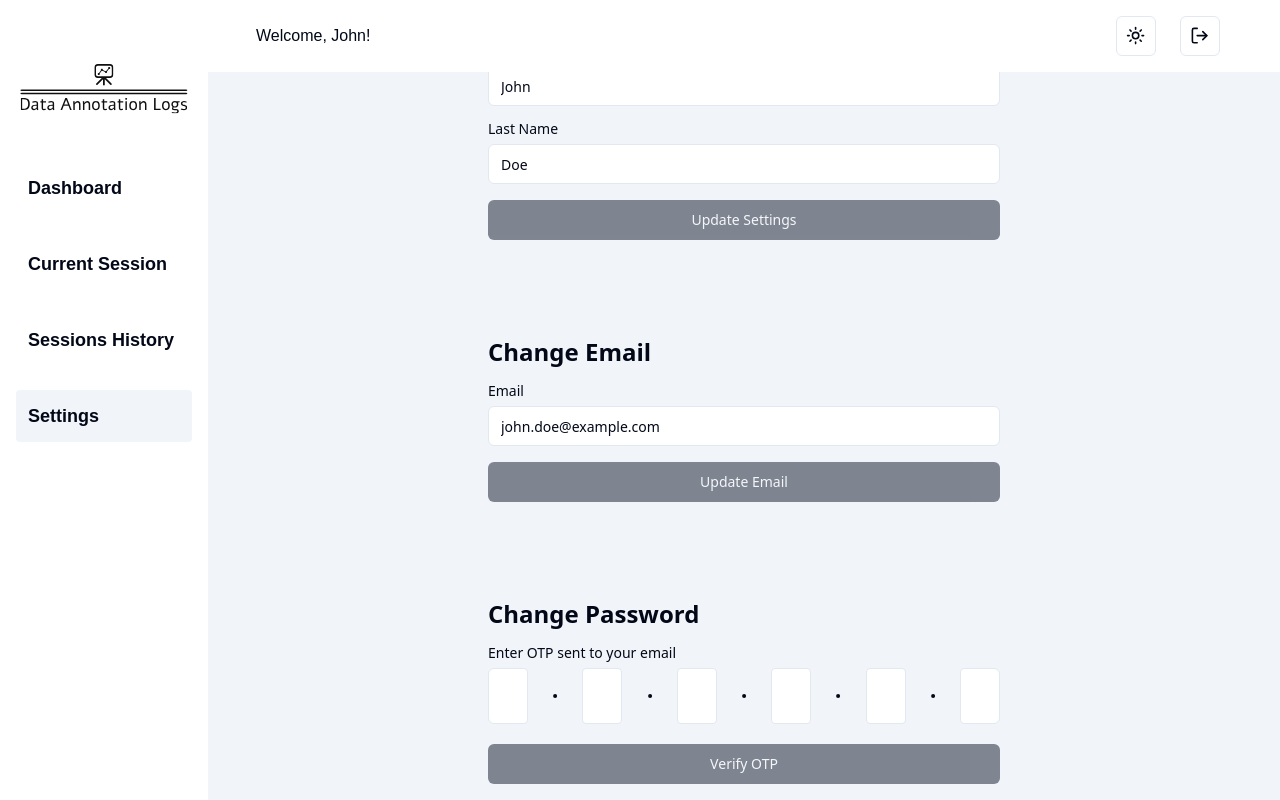
Password Reset Flow › OTP Verification › successfully verifies OTP
(page scrolled)
Type "123456" into the field with test id "password-reset-otp-input".
click(744, 696); type("123456")  # box left=488, top=668, right=1000, bottom=724
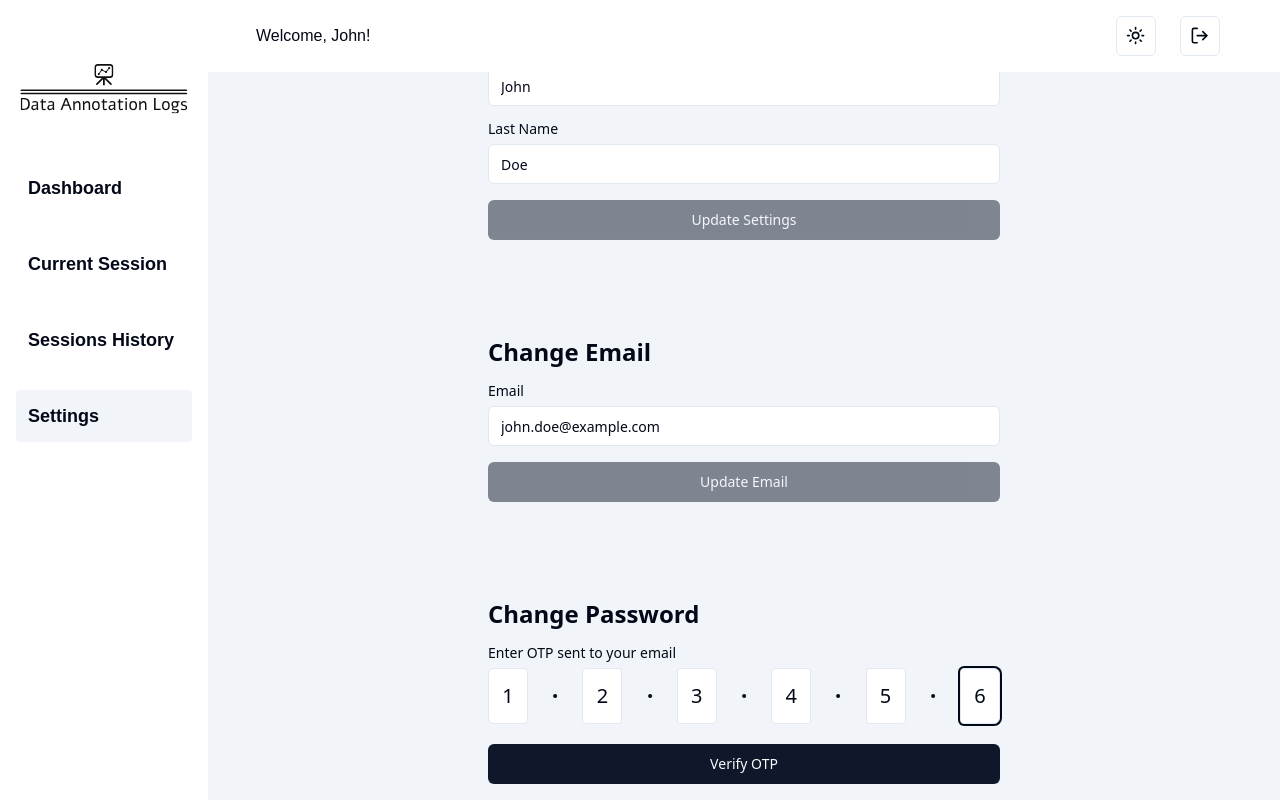
Click the button with test id "password-reset-otp-verify-button".
click(744, 764)  # box left=488, top=744, right=1000, bottom=784
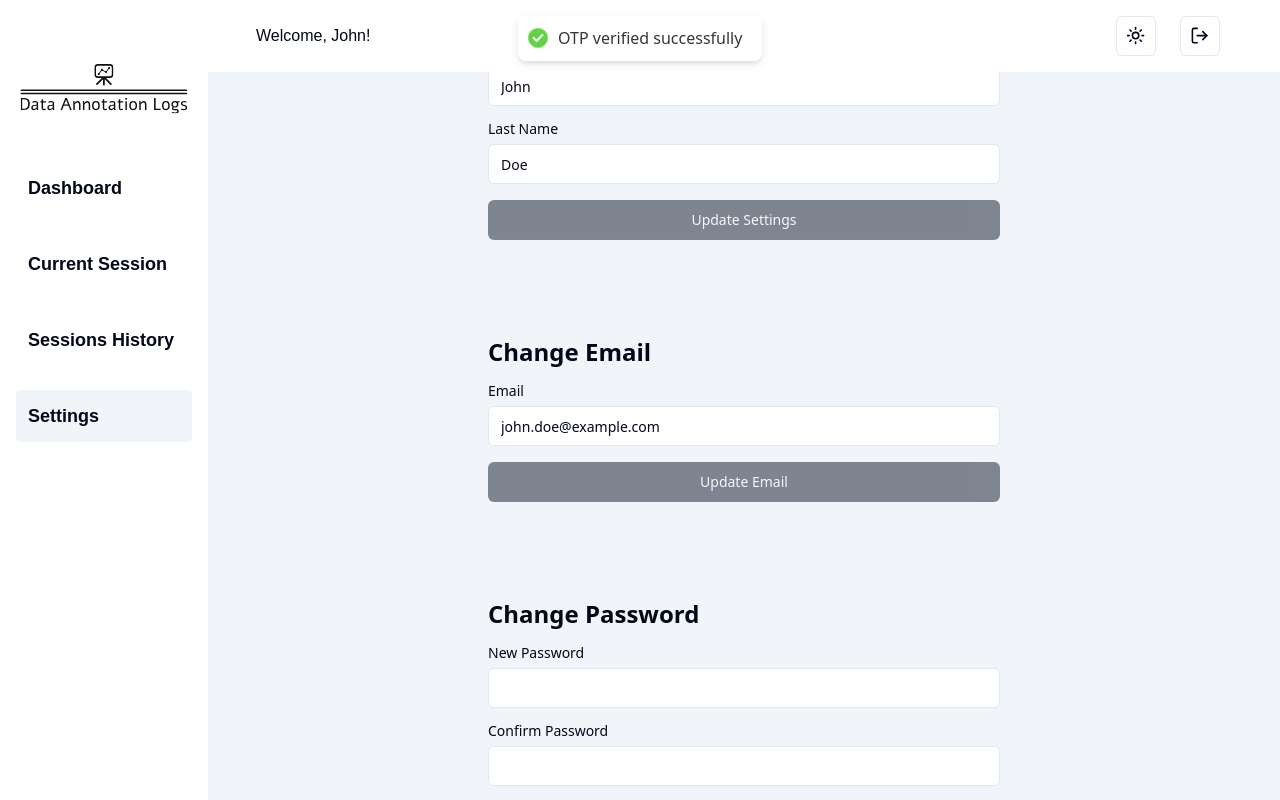
Expected: the element with class "react-hot-toast" is shown, left=518, top=16, right=762, bottom=61
Now the password field with test id "new-password-input" is shown, box left=488, top=668, right=1000, bottom=708
